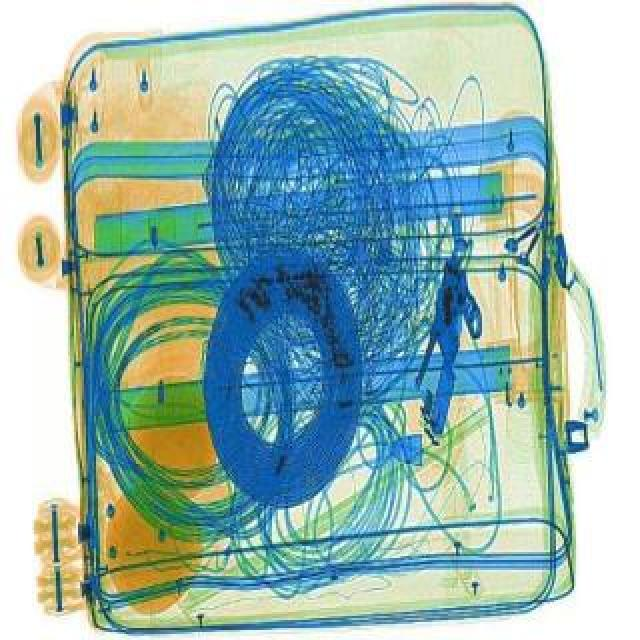gun: (392, 256, 500, 404)
